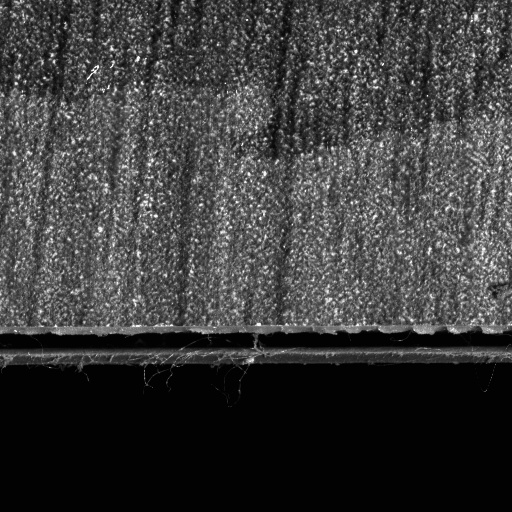kaijiao: (0, 322, 511, 367)
